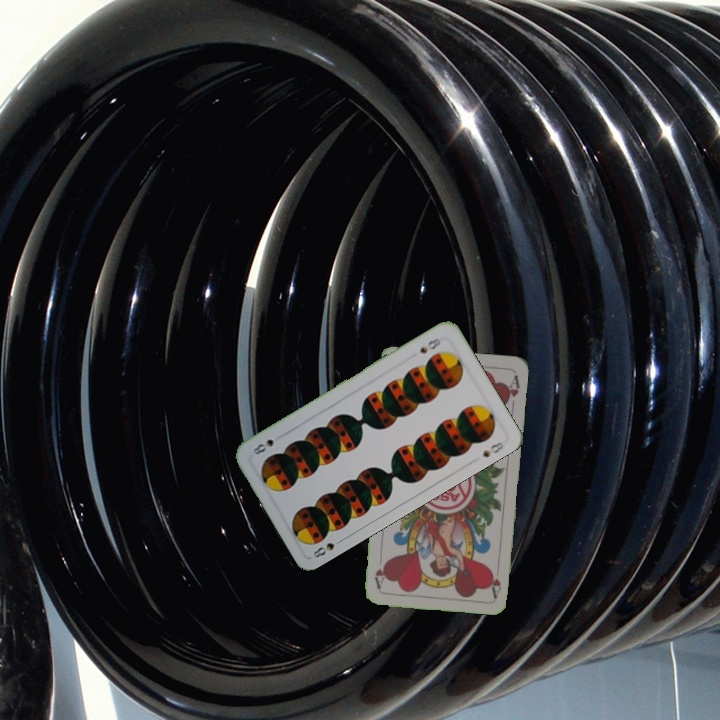HA: (487, 558, 503, 599)
S8: (309, 534, 347, 560), (416, 334, 443, 356)
